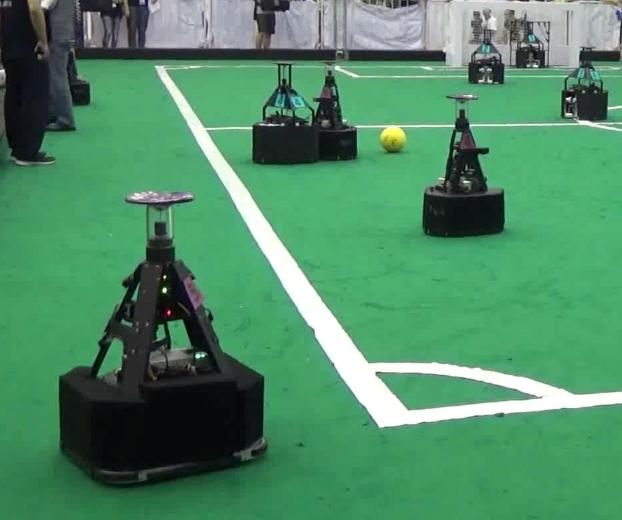robot: (52, 185, 269, 492), (417, 93, 508, 239), (248, 61, 318, 166), (304, 61, 360, 163), (560, 43, 610, 123), (465, 28, 504, 87), (511, 21, 547, 69)
